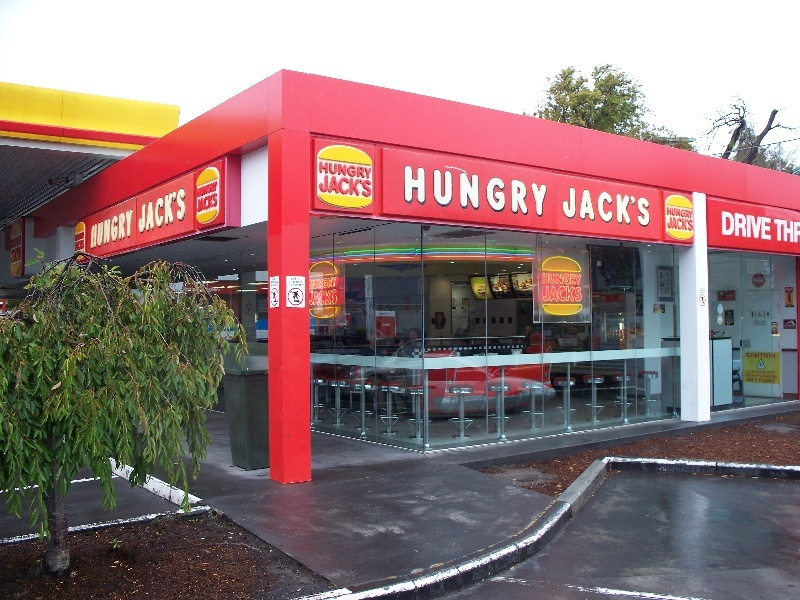text: (417, 164, 432, 218), (433, 164, 448, 218), (449, 164, 464, 218), (465, 164, 480, 218), (481, 164, 496, 218), (497, 164, 512, 218), (513, 164, 528, 218), (529, 164, 544, 218), (145, 187, 160, 234), (161, 187, 176, 234), (404, 164, 416, 218), (577, 186, 592, 228), (593, 186, 608, 228), (609, 186, 624, 228), (625, 186, 640, 228), (97, 209, 112, 250), (113, 209, 128, 250), (641, 186, 654, 228), (177, 187, 187, 234), (565, 186, 576, 228), (737, 211, 752, 241), (753, 211, 768, 241), (722, 211, 736, 241), (785, 218, 800, 244), (321, 175, 336, 198), (337, 175, 352, 198), (353, 175, 368, 198), (321, 289, 337, 306), (774, 218, 784, 244), (321, 162, 336, 179), (337, 162, 352, 179), (353, 162, 368, 179), (545, 286, 560, 303), (561, 286, 576, 303), (139, 187, 144, 234), (673, 217, 688, 232), (196, 181, 208, 199), (198, 192, 208, 213), (321, 277, 337, 290), (129, 209, 134, 250), (209, 192, 218, 213), (339, 290, 352, 304), (673, 207, 688, 219), (545, 273, 560, 285), (561, 273, 576, 285), (310, 289, 320, 306), (92, 209, 96, 250), (209, 181, 218, 199), (545, 164, 548, 218), (339, 277, 352, 288), (310, 277, 320, 290), (10, 246, 16, 264), (753, 352, 768, 359), (769, 211, 772, 241), (10, 235, 16, 250), (17, 246, 22, 264), (353, 287, 368, 293), (753, 277, 768, 283), (577, 286, 582, 303), (754, 320, 768, 326), (689, 217, 694, 232), (17, 235, 22, 250), (193, 288, 208, 293), (369, 175, 372, 198), (75, 240, 80, 252), (81, 240, 86, 252), (667, 207, 672, 219), (668, 217, 672, 232), (577, 273, 582, 285), (209, 288, 221, 293), (756, 374, 768, 379), (785, 288, 800, 292), (258, 301, 272, 305), (75, 232, 80, 243), (753, 370, 766, 374), (369, 162, 372, 179), (769, 352, 776, 359), (689, 207, 693, 219), (772, 322, 784, 326), (472, 279, 480, 285), (289, 284, 304, 287), (289, 281, 304, 284), (769, 374, 778, 379), (81, 232, 85, 243), (258, 305, 272, 308), (726, 294, 736, 298), (259, 309, 272, 312), (291, 278, 304, 281), (611, 286, 624, 289), (660, 288, 672, 291), (185, 288, 192, 293), (747, 352, 752, 359), (769, 370, 776, 375), (661, 290, 672, 293), (760, 379, 768, 383), (481, 279, 486, 285), (769, 379, 776, 383), (244, 305, 256, 307), (385, 323, 391, 327), (700, 288, 704, 294), (245, 304, 256, 306), (273, 284, 280, 287), (747, 370, 752, 374), (747, 378, 752, 382), (753, 378, 758, 382), (273, 281, 279, 284), (746, 374, 752, 377), (625, 286, 631, 289), (543, 286, 544, 303), (273, 278, 278, 281), (543, 273, 544, 285), (753, 374, 756, 378), (705, 288, 707, 294), (247, 303, 256, 304), (382, 323, 384, 327), (767, 370, 768, 375), (751, 374, 752, 378), (271, 284, 272, 287), (271, 281, 272, 284)
